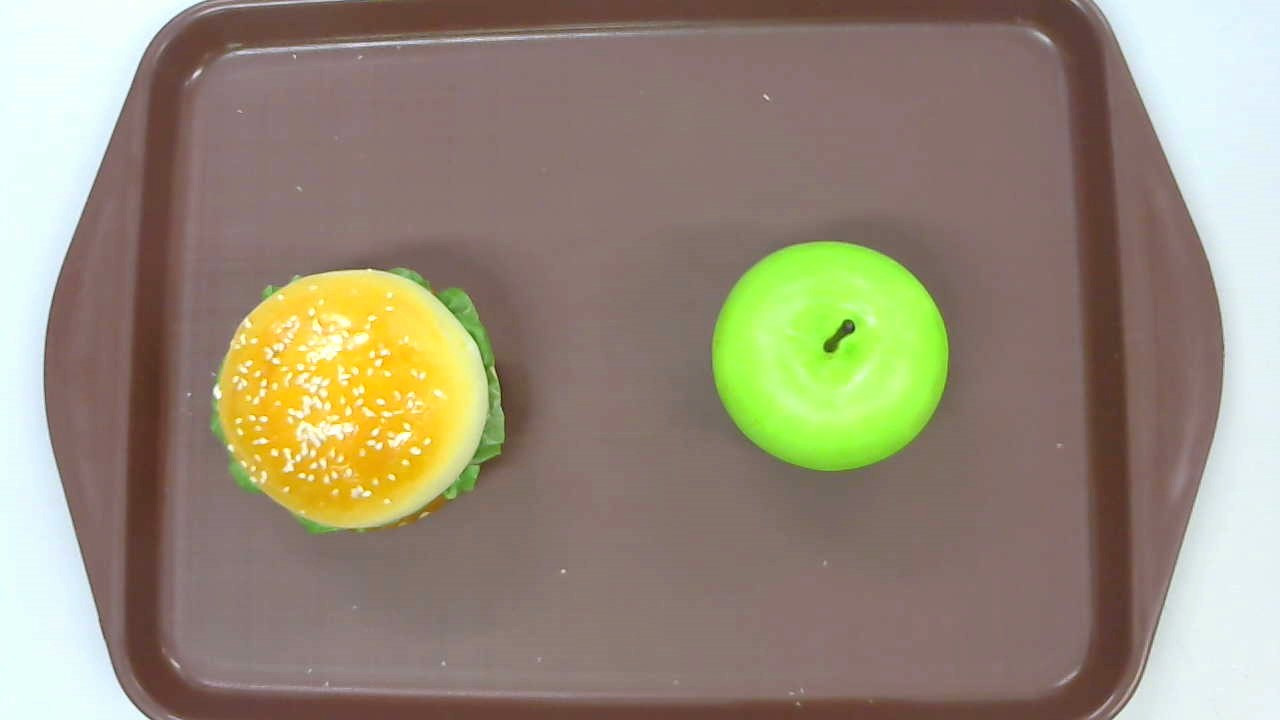green apple: (712, 241, 949, 473)
hamburger: (210, 268, 508, 533)
